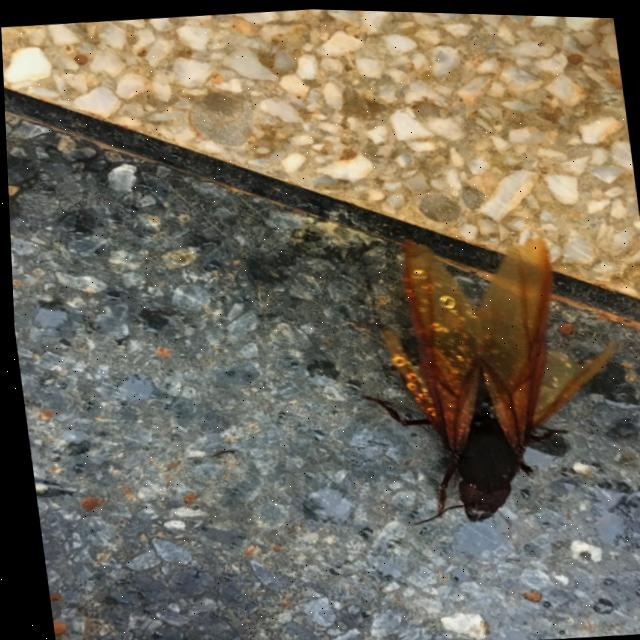Alive-Female-Alate: (338, 216, 640, 559)
